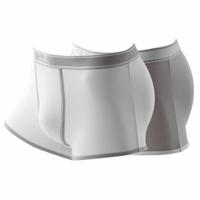mutande: (4, 43, 154, 159), (135, 38, 193, 154), (69, 42, 111, 55)
